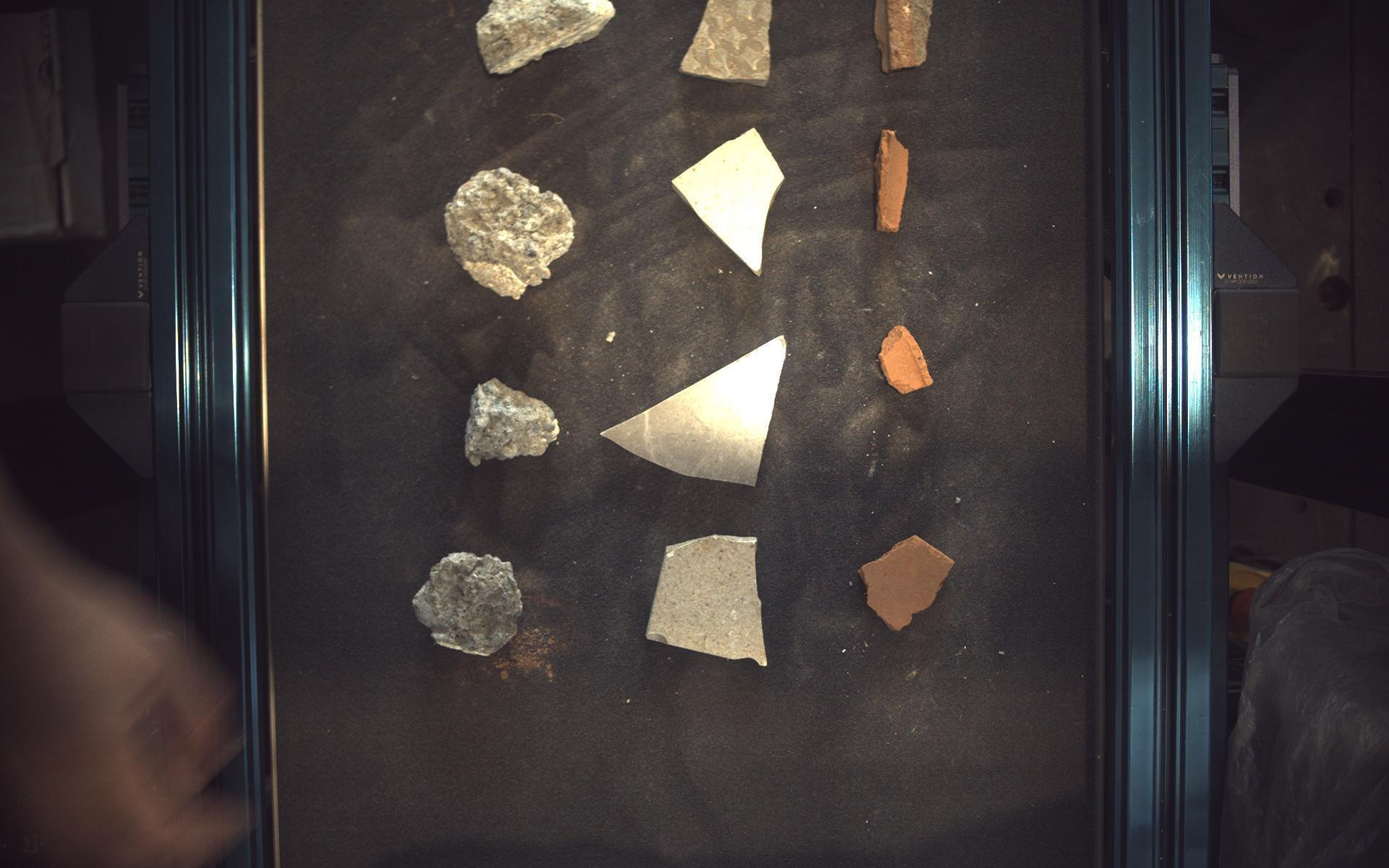brick: (861, 536, 956, 632), (876, 1, 935, 72), (880, 325, 935, 394), (877, 128, 910, 232)
concrete: (445, 166, 574, 299), (412, 553, 523, 658), (477, 1, 616, 73), (465, 378, 559, 467)
tile: (603, 336, 788, 486), (673, 127, 786, 274), (647, 535, 768, 668), (681, 1, 773, 85)
